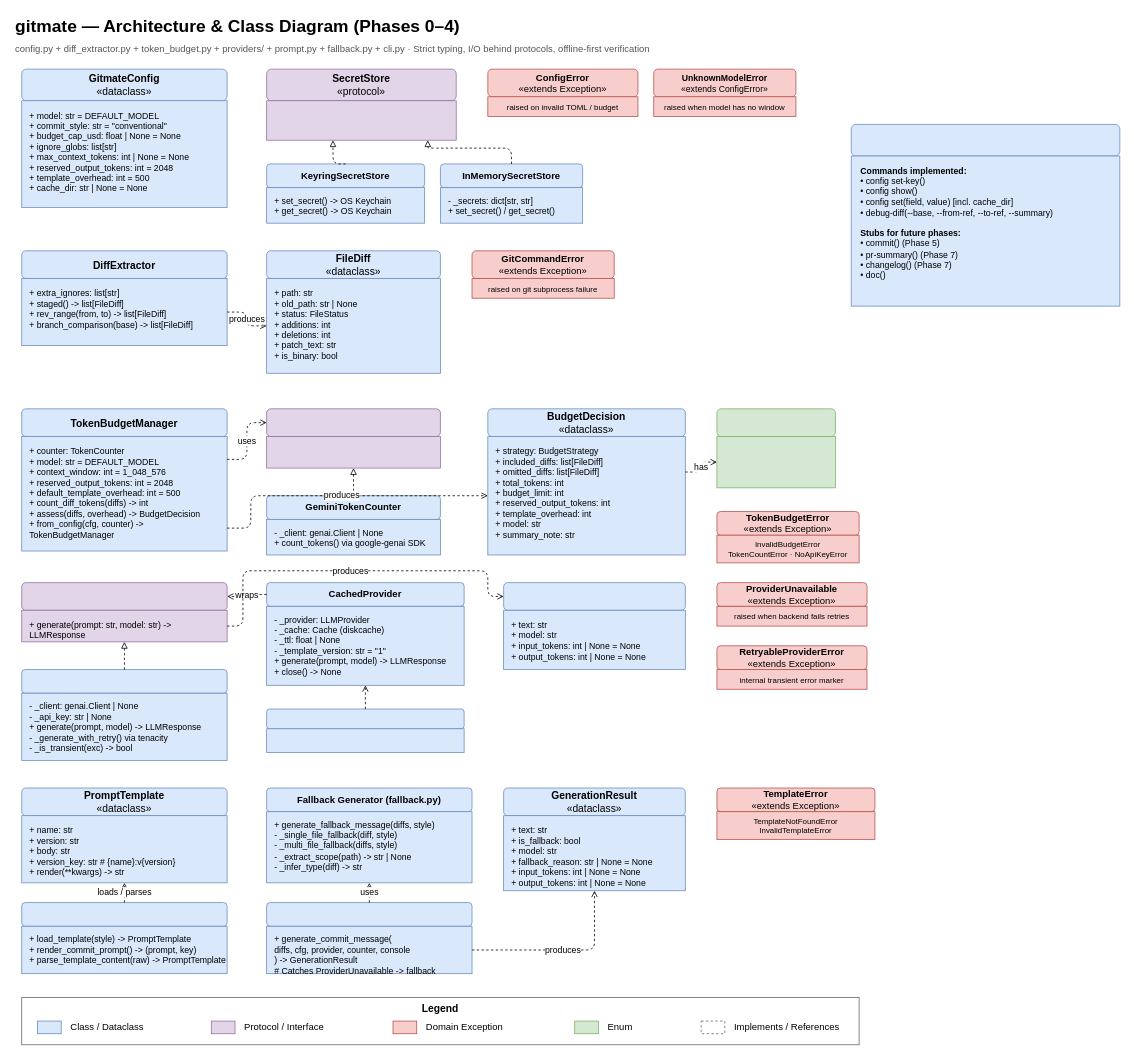
Some shapes in this 1134 by 1059 pixel diagram are drawn without their labels. Each missing label, with the centre of its shape:
+ count_tokens(text, model) -> int: pixel 353 452
+ set_secret(account, secret) -> None + get_secret(account) -> str | None: pixel 361 120
BudgetStrategy «str, Enum»: pixel 775 422
cache_key(): pixel 365 718
FITS = "fits" TRUNCATED = "truncated" NEEDS_CHUNKING = "...": pixel 775 462
GeminiProvider: pixel 124 681
gitmate CLI Typer app · commands only, no business logic: pixel 985 140
LLMProvider «protocol»: pixel 124 596
LLMResponse «dataclass»: pixel 594 596
Orchestrator (fallback.py): pixel 369 914
Prompt Engine (prompt.py): pixel 124 914
sha256(version + \x00 + model + \x00 + prompt): pixel 365 740
TokenCounter «protocol»: pixel 353 422
